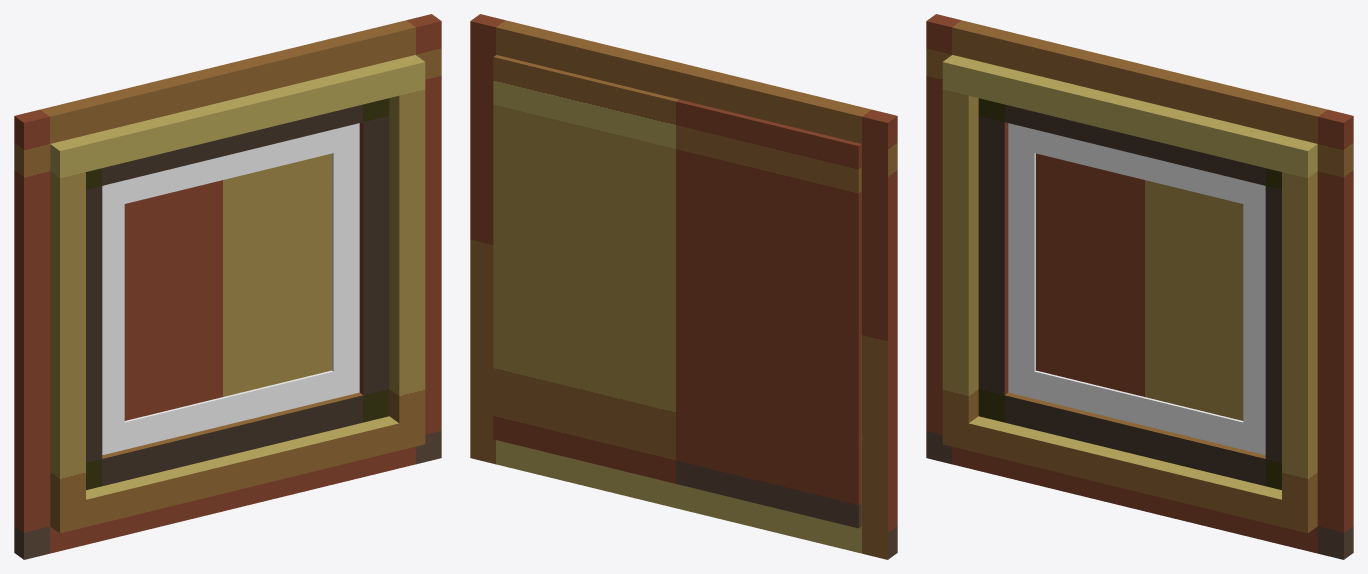
File: picture_frame_photo_empty.glb
The picture shows the model from 3 angles, left to right: view 1: azimuth 30°, elevation 25°; view 2: azimuth 150°, elevation 25°; view 3: azimuth 330°, elevation 25°; orthographic projection.
Visible parts, largest first — view 1: Continuous_Stepped_Wood_Frame, Removable_Rear_Board, Photo_White_Mat; view 2: Removable_Rear_Board, Continuous_Stepped_Wood_Frame; view 3: Continuous_Stepped_Wood_Frame, Removable_Rear_Board, Photo_White_Mat.
Part boxes in pixels (box(x1,y1,x2,y2)): Continuous_Stepped_Wood_Frame: box(14, 14, 441, 559); Removable_Rear_Board: box(124, 153, 331, 420); Photo_White_Mat: box(102, 123, 359, 455); Removable_Rear_Board: box(493, 55, 861, 528); Continuous_Stepped_Wood_Frame: box(470, 14, 897, 559); Continuous_Stepped_Wood_Frame: box(926, 14, 1353, 559); Removable_Rear_Board: box(1036, 153, 1243, 420); Photo_White_Mat: box(1008, 123, 1265, 455).
Bounding box in the file's own units: 0.45 × 0.45 × 0.0422.
2 materials, 2 textured.
